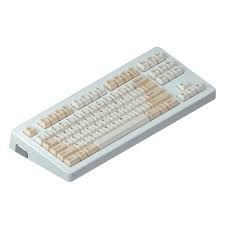keyboard: (10, 38, 219, 182)
